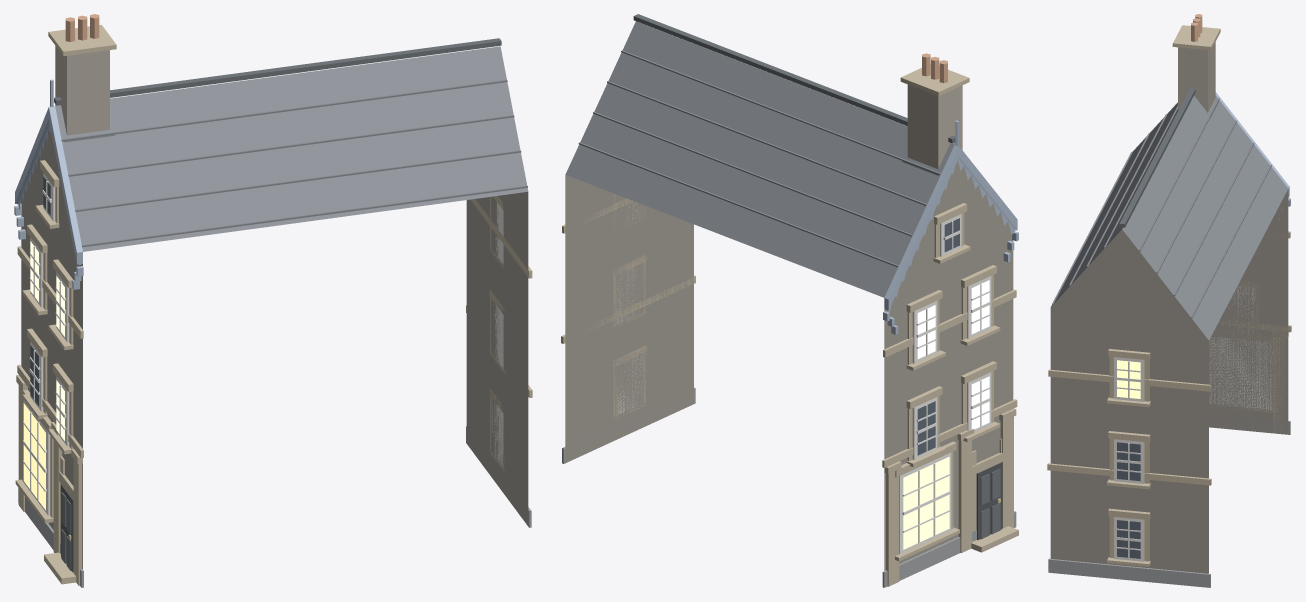
3 renders of one model, left to right at view 1: azimuth 30°, elevation 25°; view 2: azimuth 150°, elevation 25°; view 3: azimuth 270°, elevation 25°, orthographic. The views are drawn at different scales.
Parts seen in each view (by area): view 1: slate_lt, plaque, ss_joint, frame, chim_stone, slate_dk, windows, bargeboard_blue, pot, plinth, door_dark_p; view 2: slate_lt, plaque, ss_joint, windows, frame, chim_stone, bargeboard_blue, slate_dk, plinth, door_dark_p, door_dark, pot; view 3: plaque, slate_lt, ss_joint, frame, plinth, windows, chim_stone, slate_dk, bargeboard_blue.
Part boxes in pixels (x1,y1,x2,y2): slate_lt: (55,46,528,251); plaque: (21,129,528,569); ss_joint: (15,25,532,585); frame: (23,173,503,515); chim_stone: (55,46,109,135); slate_dk: (54,38,501,104); windows: (23,177,64,510); bargeboard_blue: (14,79,83,289); pot: (65,14,99,41); plinth: (18,426,531,587); door_dark_p: (61,492,71,570); slate_lt: (565,21,954,297); plaque: (565,160,1013,570); ss_joint: (561,64,1018,586); windows: (903,218,989,549); frame: (617,202,991,553); chim_stone: (907,84,962,168); bargeboard_blue: (883,120,1018,334); slate_dk: (633,14,955,143); plinth: (562,387,1016,587); door_dark_p: (980,469,1000,539); door_dark: (976,462,1002,539); pot: (922,53,947,82); plaque: (1050,189,1288,573); slate_lt: (1051,95,1288,339); ss_joint: (1047,25,1291,566); frame: (1114,286,1272,561); plinth: (1048,414,1290,587); windows: (1117,360,1140,558); chim_stone: (1178,42,1215,112); slate_dk: (1119,88,1195,227); bargeboard_blue: (1132,92,1290,220).
Size of the model in its own units: 12.7 by 14.19 by 7.54.
